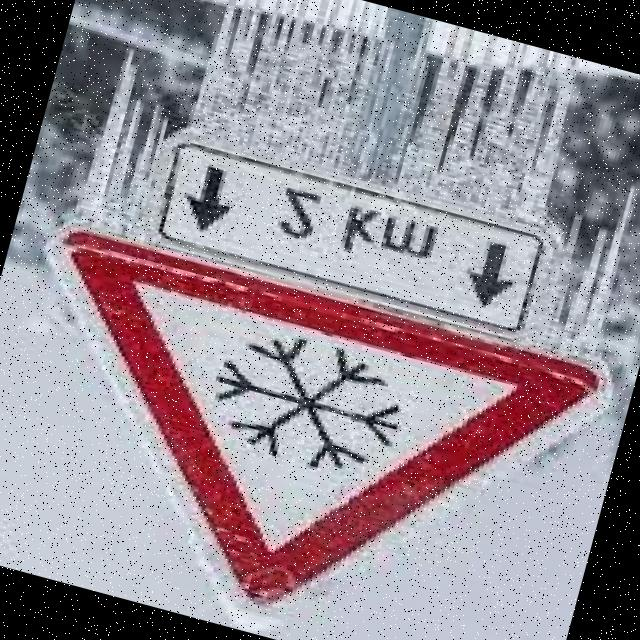snow_warning: (0, 201, 637, 640)
